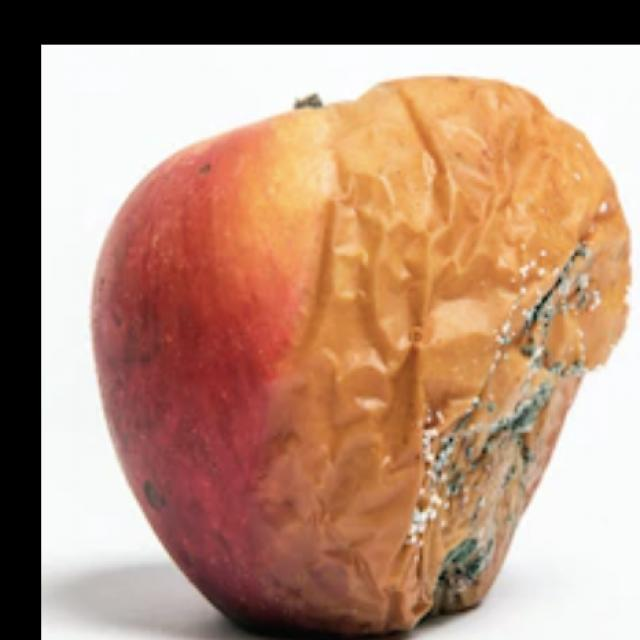Rotten: (106, 91, 640, 640)
